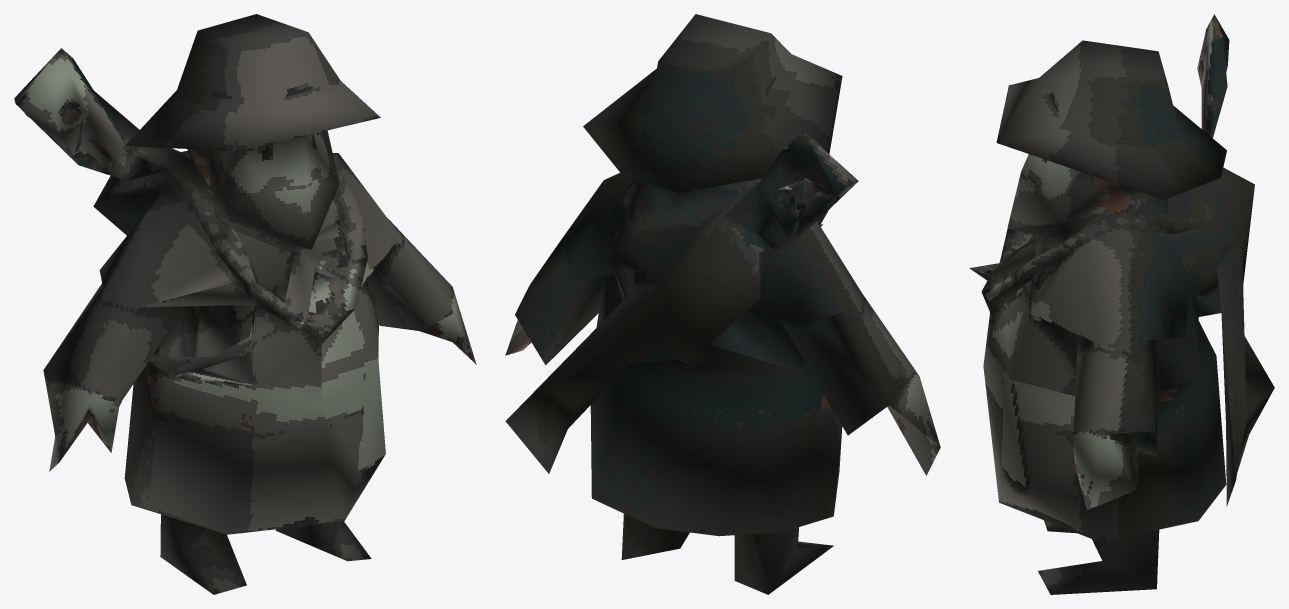
The model's file is hero_osk.glb.
The picture shows the model from 3 angles, left to right: view 1: azimuth 30°, elevation 25°; view 2: azimuth 150°, elevation 25°; view 3: azimuth 270°, elevation 25°; orthographic projection. The views are drawn at different scales.
Visible parts, largest first — view 1: hero_osk; view 2: hero_osk; view 3: hero_osk.
Boxes of the visible parts, <box> form: hero_osk: <box>14,14,476,594</box>; hero_osk: <box>505,14,940,594</box>; hero_osk: <box>969,14,1274,594</box>.
Bounding box in the file's own units: 0.8277 × 0.9967 × 0.5533.
1 material, 1 textured.
